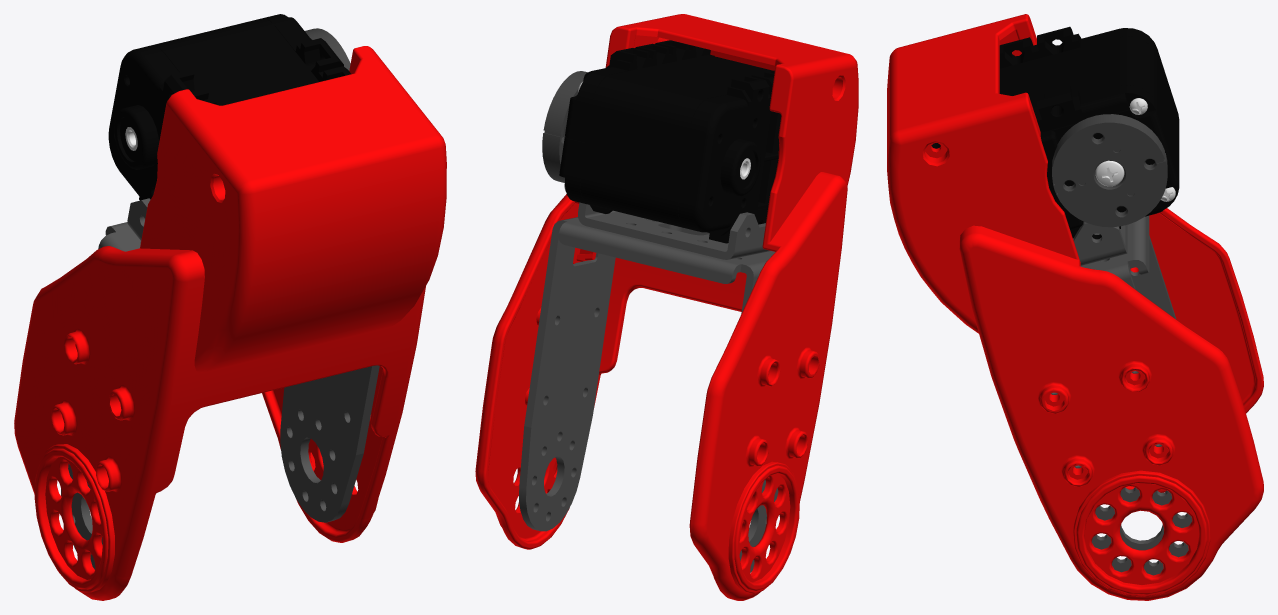
The model's file is shin-right.obj.
3 renders of one model, left to right at view 1: azimuth 30°, elevation 25°; view 2: azimuth 150°, elevation 25°; view 3: azimuth 270°, elevation 25°, orthographic. The views are drawn at different scales.
Parts seen in each view (by area): view 1: 49er_Jimmy_110714_12, ASSY_DUMMY___, Solid1; view 2: 49er_Jimmy_110714_12, ASSY_DUMMY___, Solid1, DC04_B01_HORN2_DUMMY; view 3: 49er_Jimmy_110714_12, ASSY_DUMMY___, DC04_B01_HORN2_DUMMY, Solid1, BHS_M2_6X8.
Part boxes in pixels (<box>): 49er_Jimmy_110714_12: <box>14,46,446,600</box>; ASSY_DUMMY___: <box>108,14,351,200</box>; Solid1: <box>61,198,379,569</box>; 49er_Jimmy_110714_12: <box>475,14,858,600</box>; ASSY_DUMMY___: <box>559,40,781,243</box>; Solid1: <box>519,202,778,572</box>; DC04_B01_HORN2_DUMMY: <box>542,71,587,182</box>; 49er_Jimmy_110714_12: <box>887,14,1263,600</box>; ASSY_DUMMY___: <box>931,26,1179,239</box>; DC04_B01_HORN2_DUMMY: <box>1052,114,1167,227</box>; Solid1: <box>1051,215,1192,575</box>; BHS_M2_6X8: <box>1095,160,1124,186</box>.
Bounding box in the file's own units: 2.2 × 4.06 × 2.82.
